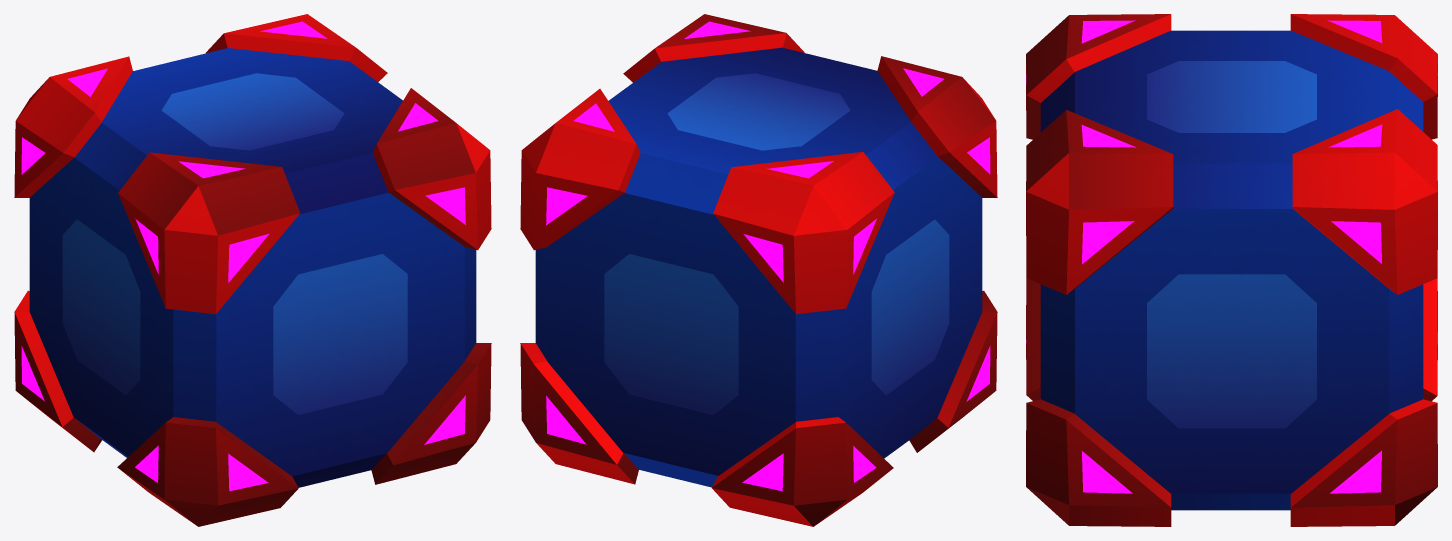
3 views of the same model, side by side, from view 1: azimuth 30°, elevation 25°; view 2: azimuth 150°, elevation 25°; view 3: azimuth 270°, elevation 25° (orthographic). The views are drawn at different scales.
Parts seen in each view (by area): view 1: box.002; view 2: box.002; view 3: box.002.
Boxes of the visible parts, x1,y1,x2,y2 form: box.002: [14, 14, 491, 526]; box.002: [520, 14, 997, 526]; box.002: [1026, 14, 1437, 526].
Bounding box in the file's own units: 112 × 112 × 112.
